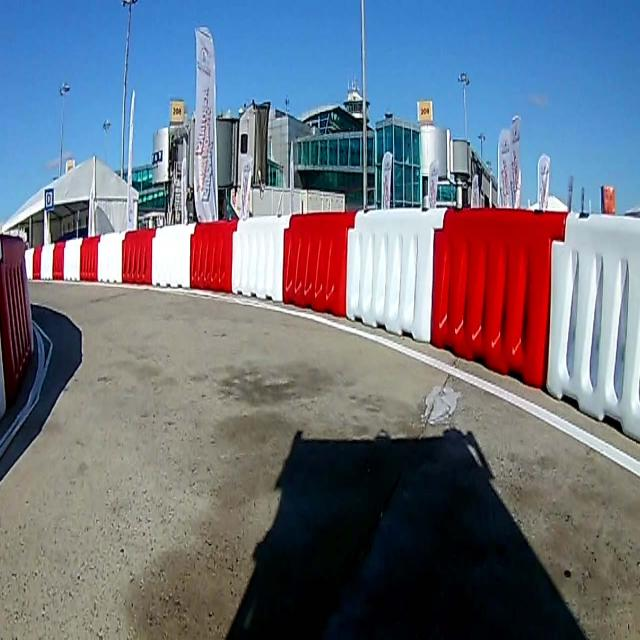durak: (45, 188, 53, 210)
